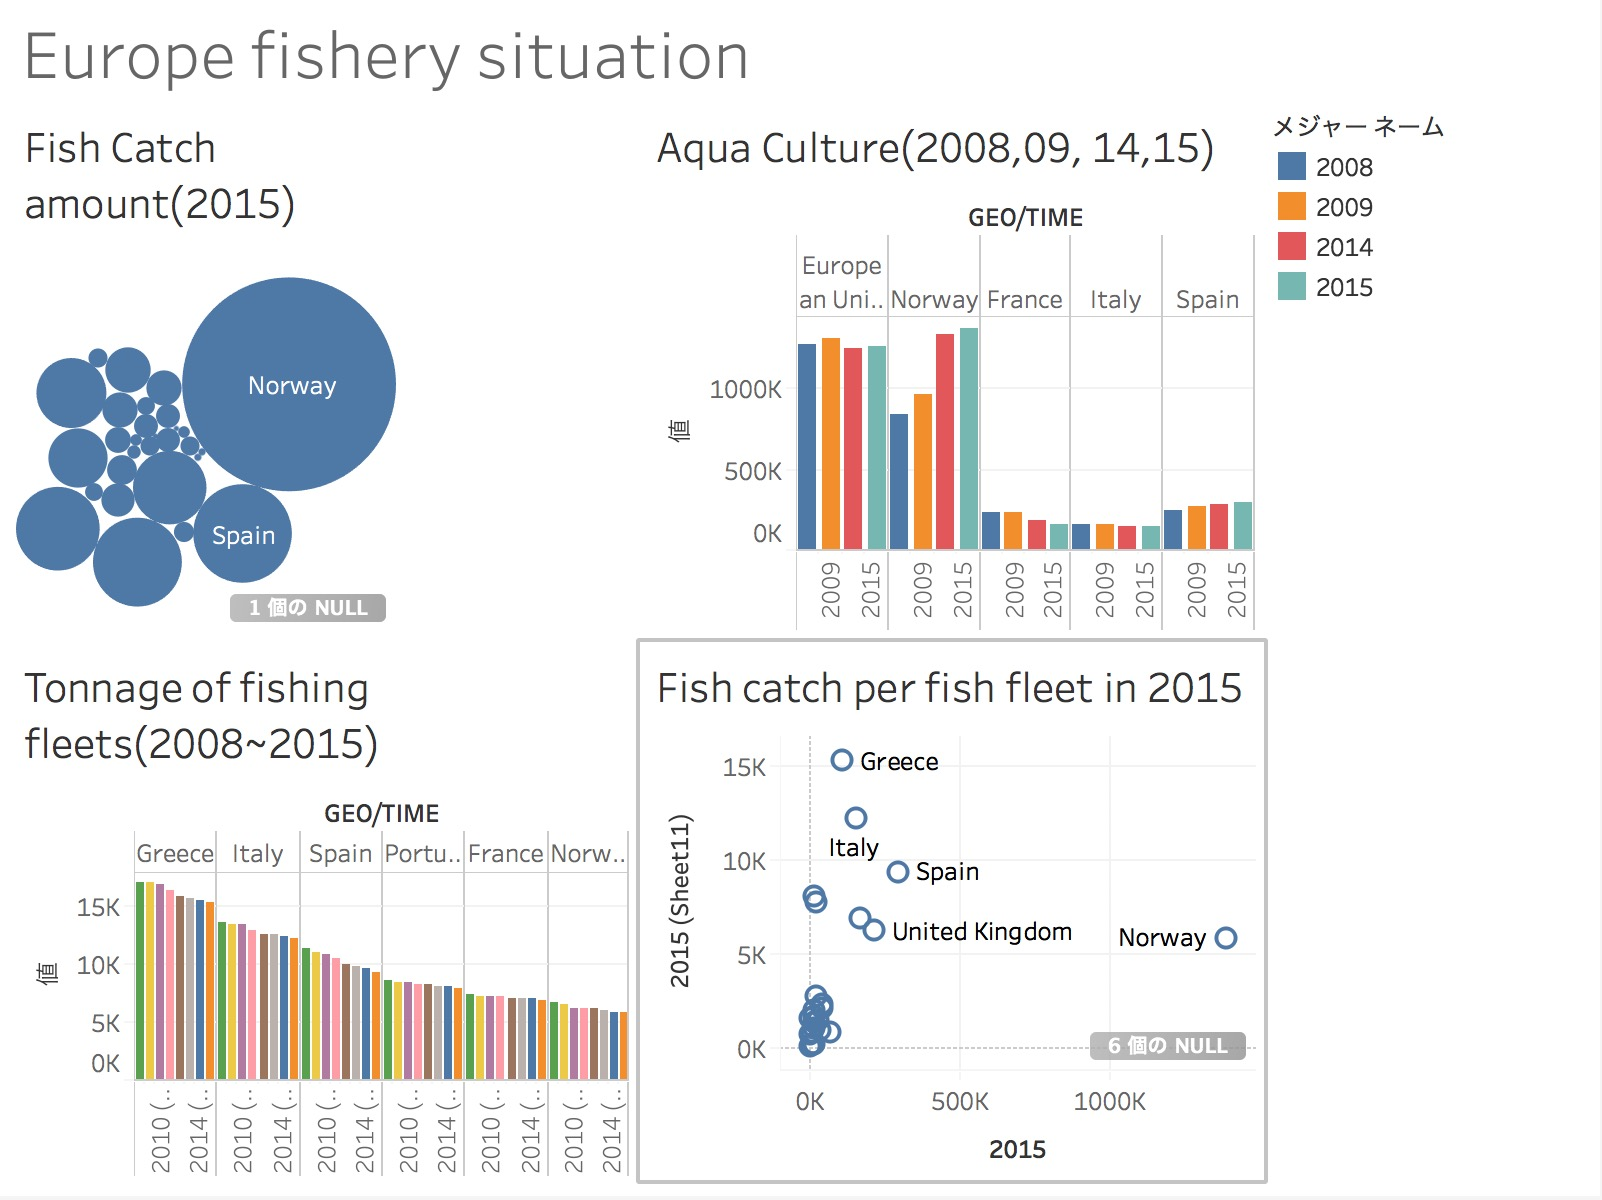

This screenshot's page, from the dashboard's own definition file:
{"tool":"tableau","page":{"name":"Europe fishery situation","canvas":[800,600],"ordinal":0},"visuals":[{"type":"text","box":[0,0,800,46.5]},{"type":"worksheet","title":"Fish Catch amount(2015)","mark":"Circle","box":[0,46.5,320,276.8]},{"type":"worksheet","title":"Aqua Culture(2008,09, 14,15)","mark":"Automatic","cols":["GEO/TIME"],"box":[320,46.5,320,276.8]},{"type":"legend","title":"Aqua Culture(2008,09, 14,15)","param":"[federated.1ui630p1pxkb5f16bk6411b6re82].[:Measure Names]","box":[640,46.5,160,106]},{"type":"worksheet","title":"Tonnage of fishing fleets(2008~2015)","mark":"Automatic","cols":["GEO/TIME"],"box":[0,323.2,320,276.8]},{"type":"worksheet","title":"Fish catch per fish fleet in 2015","mark":"Automatic","rows":["2015 (Sheet11)"],"cols":["2015"],"box":[320,323.2,320,276.8]}]}

Visuals, with their boxes in screenshot pixels (x1, y1, x2, y2), scaled from the page's 800x600 canvas onto the 1602x1200 screenshot:
text: crop(0, 0, 1601, 93)
"Fish Catch amount(2015)" worksheet (Circle marks): crop(0, 93, 641, 647)
"Aqua Culture(2008,09, 14,15)" worksheet: crop(641, 93, 1282, 647)
"Aqua Culture(2008,09, 14,15)" legend: crop(1282, 93, 1601, 305)
"Tonnage of fishing fleets(2008~2015)" worksheet: crop(0, 646, 641, 1199)
"Fish catch per fish fleet in 2015" worksheet: crop(641, 646, 1282, 1199)
